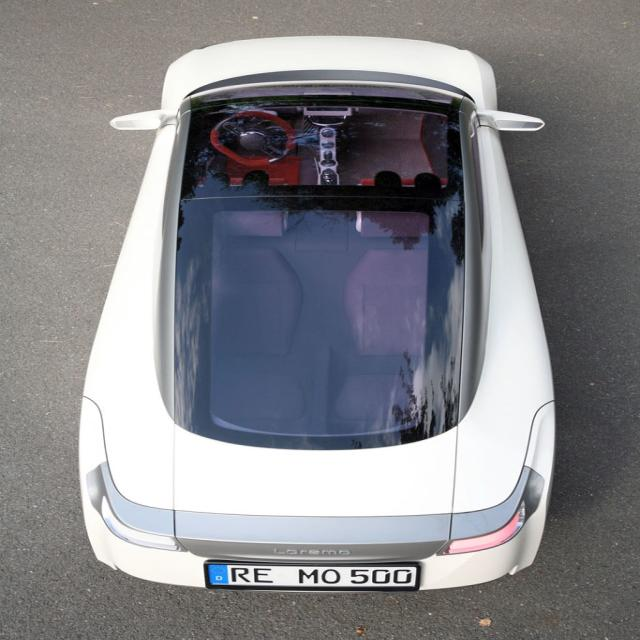car: (74, 31, 561, 594)
